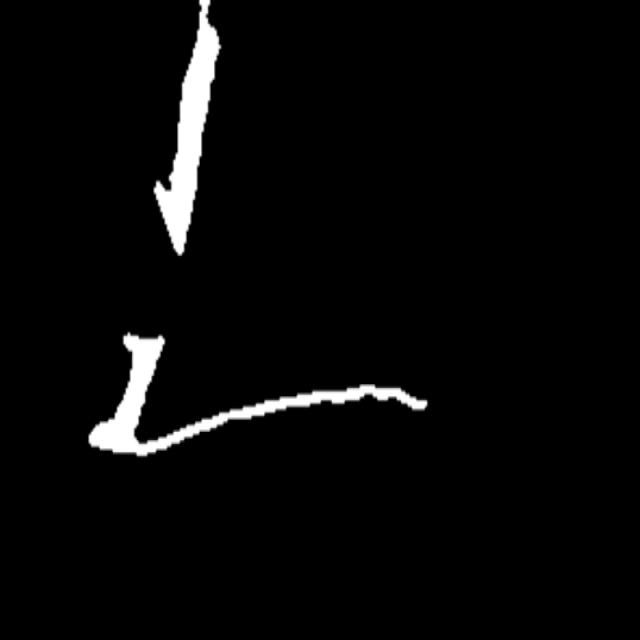sl: (192, 0, 221, 43)
